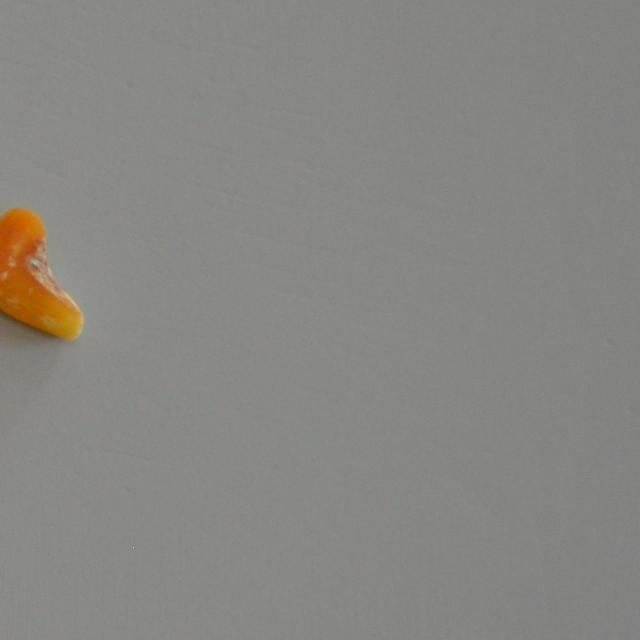dañado: (0, 204, 89, 343)
